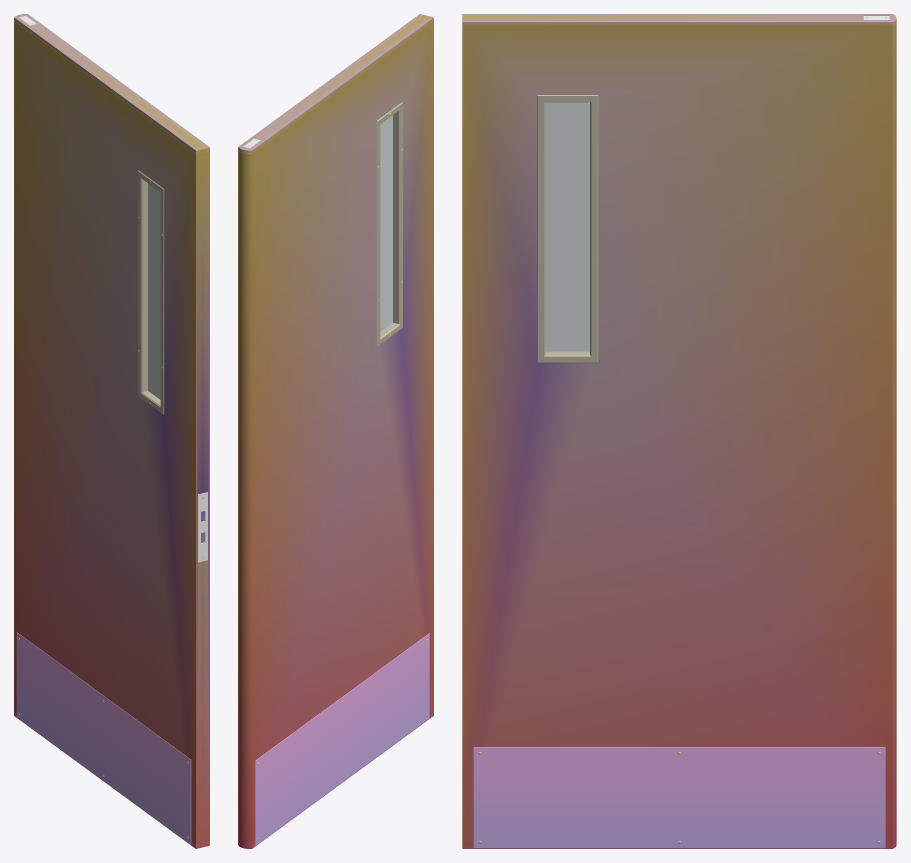
The model's file is Kit_DoorLeaf_SteelLite_DA.fbx.
3 renders of one model, left to right at view 1: azimuth 30°, elevation 25°; view 2: azimuth 150°, elevation 25°; view 3: azimuth 270°, elevation 25°, orthographic. The views are drawn at different scales.
Visible parts, largest first — view 1: Kit_DoorLeaf_SteelLite_DA_LOD0; view 2: Kit_DoorLeaf_SteelLite_DA_LOD0; view 3: Kit_DoorLeaf_SteelLite_DA_LOD0.
Boxes of the visible parts, x1,y1,x2,y2 form: Kit_DoorLeaf_SteelLite_DA_LOD0: (14,14,209,848); Kit_DoorLeaf_SteelLite_DA_LOD0: (238,14,433,848); Kit_DoorLeaf_SteelLite_DA_LOD0: (462,14,896,848).
Size of what is drawn, in the model's own units: 0.0498 by 2.08 by 0.9902.
